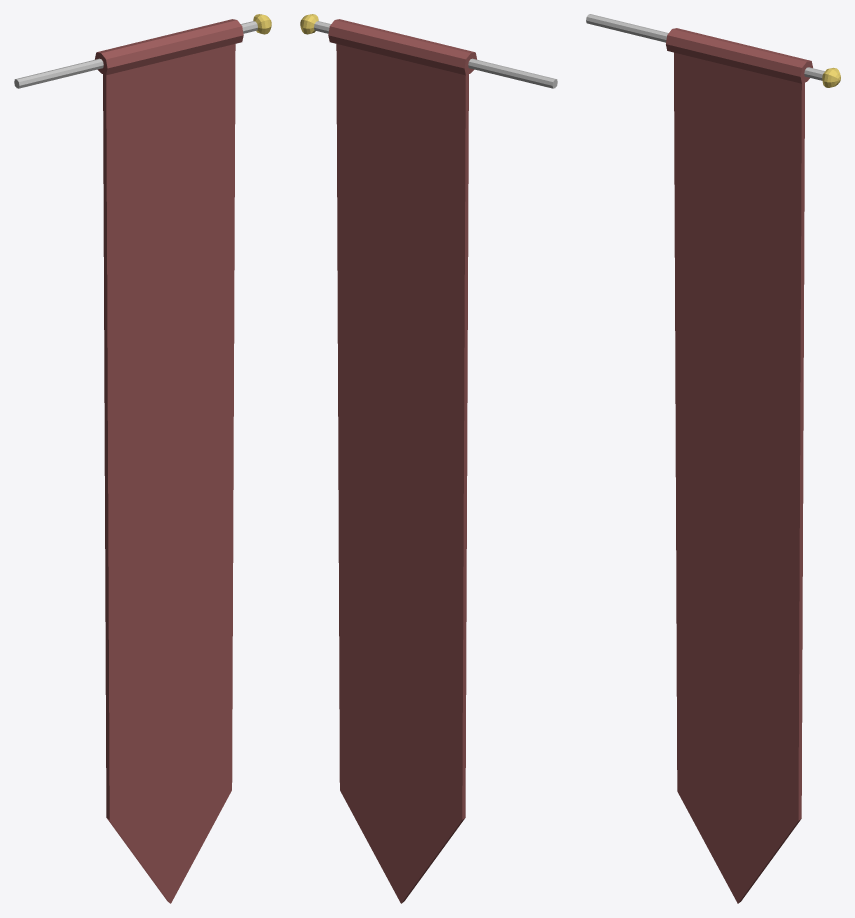
Rendered from mainRoom_flagReg.fbx.
3 views of the same model, side by side, from view 1: azimuth 30°, elevation 25°; view 2: azimuth 150°, elevation 25°; view 3: azimuth 330°, elevation 25° (orthographic).
Parts seen in each view (by area): view 1: flagReg; view 2: flagReg; view 3: flagReg.
Part boxes in pixels (x1,y1,x2,y2): flagReg: [14, 14, 271, 903]; flagReg: [300, 14, 557, 903]; flagReg: [586, 14, 840, 903].
Size of the model in its own units: 22.85 by 74.49 by 1.99.
